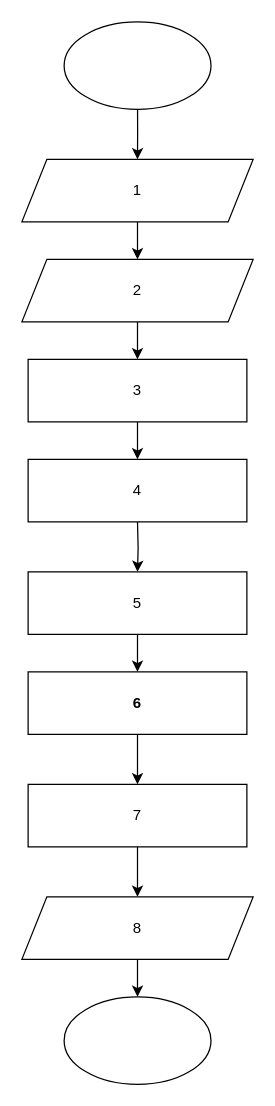
Image size: 275x1106. Some labels were removed from this diagram. The shapes that lost their labels are listed below. From the top down, each one's centre as x and y in pixels, then its label:
At (137,65): "START".
At (137,1040): "END".
